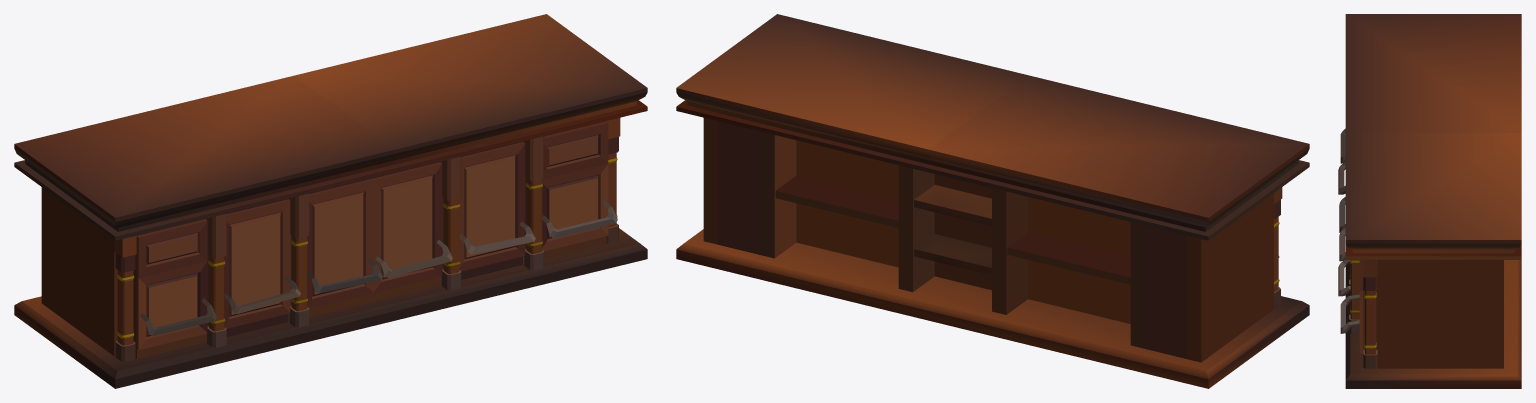
The model's file is Furniture_Bar.fbx.
The picture shows the model from 3 angles, left to right: view 1: azimuth 30°, elevation 25°; view 2: azimuth 150°, elevation 25°; view 3: azimuth 270°, elevation 25°; orthographic projection. The views are drawn at different scales.
Parts seen in each view (by area): view 1: Furniture_Bar; view 2: Furniture_Bar; view 3: Furniture_Bar.
Part boxes in pixels (x1=…): Furniture_Bar: x1=14, y1=14, x2=647, y2=388; Furniture_Bar: x1=676, y1=14, x2=1309, y2=388; Furniture_Bar: x1=1338, y1=14, x2=1521, y2=388.
Bounding box in the file's own units: 380 × 117 × 130.
